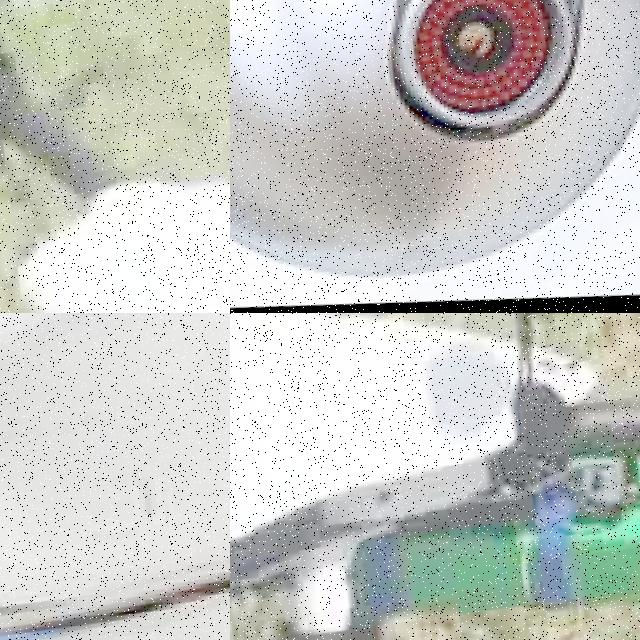0: (230, 313, 640, 640), (0, 0, 230, 313)
drone: (230, 0, 640, 313), (0, 313, 230, 640)
